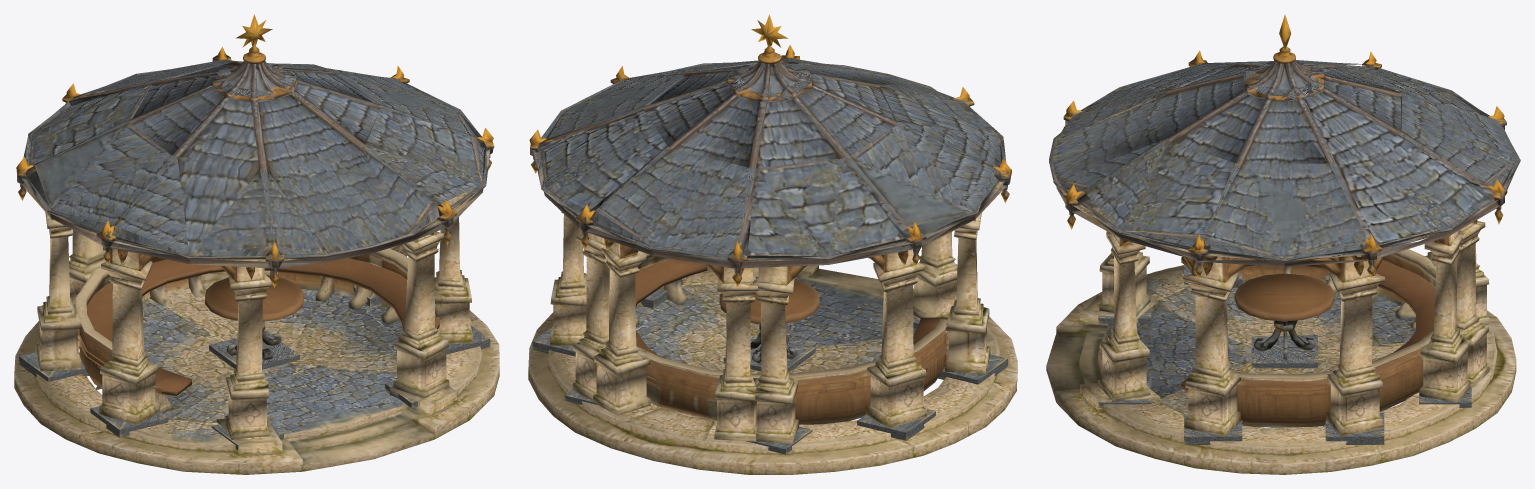
File: Furn_Gazebo2_Tripo.fbx
The picture shows the model from 3 angles, left to right: view 1: azimuth 30°, elevation 25°; view 2: azimuth 150°, elevation 25°; view 3: azimuth 270°, elevation 25°; orthographic projection.
Parts seen in each view (by area): view 1: Furn_Gazebo2_Tripo_Mesh; view 2: Furn_Gazebo2_Tripo_Mesh; view 3: Furn_Gazebo2_Tripo_Mesh.
Boxes of the visible parts, bbox=[...] form: Furn_Gazebo2_Tripo_Mesh: bbox=[14, 14, 499, 474]; Furn_Gazebo2_Tripo_Mesh: bbox=[528, 14, 1017, 474]; Furn_Gazebo2_Tripo_Mesh: bbox=[1046, 14, 1520, 474].
Bounding box in the file's own units: 6 × 4.8 × 5.78.
Materials: 1 (1 with a texture image).
